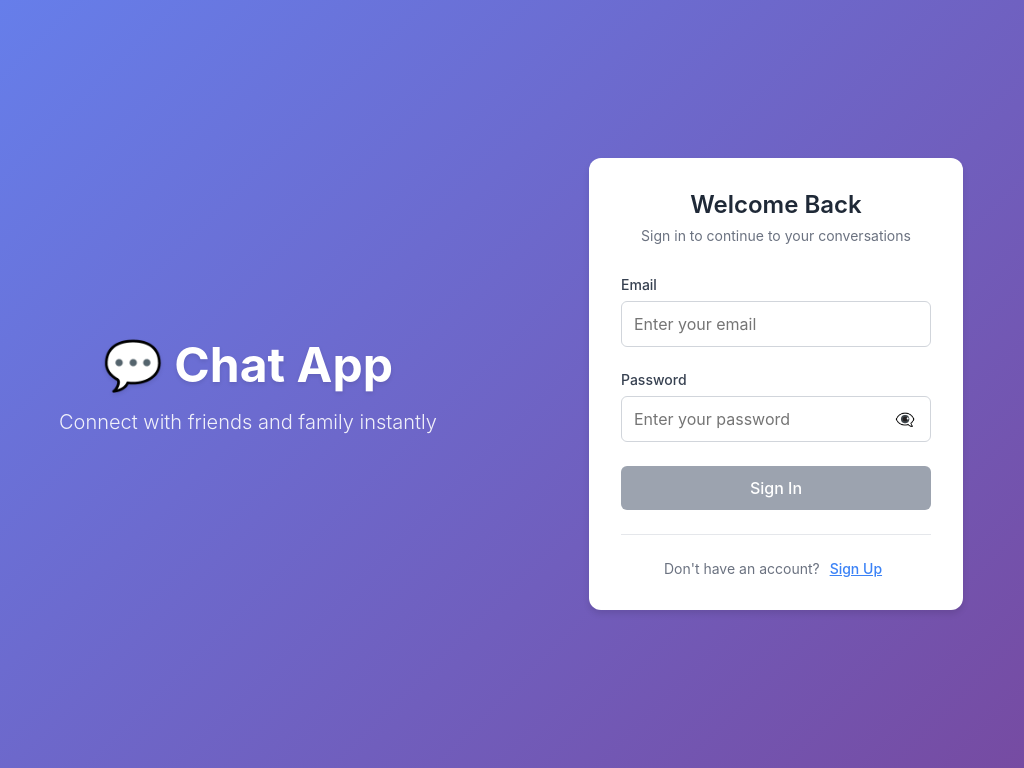
Scenario: AuthPage › switches back to login form when Sign In is clicked from register form
# Switch to register
Click the button "Sign Up".
click(856, 568)  # box x1=824 y1=559 x2=888 y2=578
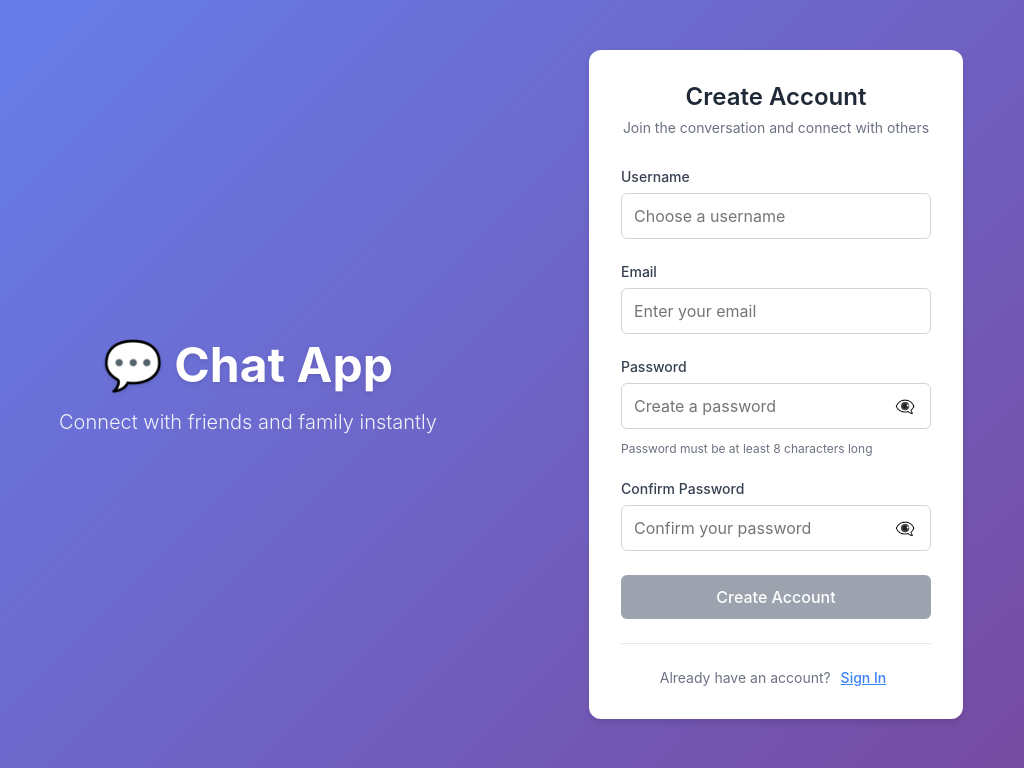
# Switch back to login
Click the button "Sign In".
click(863, 677)  # box x1=835 y1=668 x2=892 y2=686
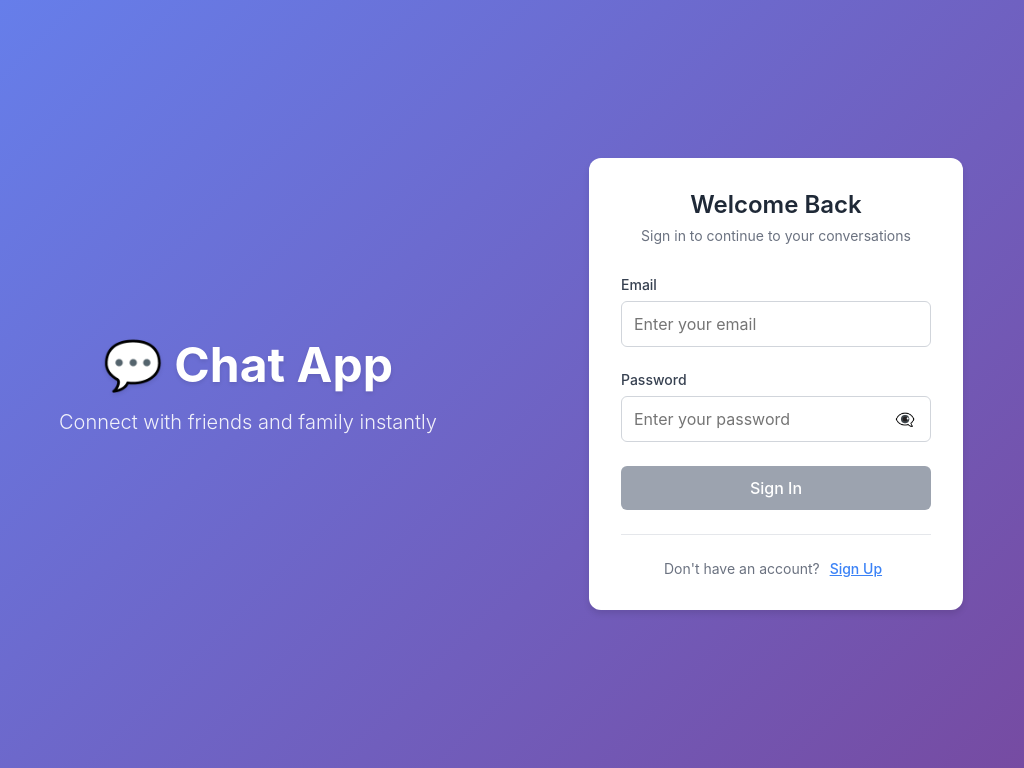
expect the field labelled "Email" is shown: met, box x1=621 y1=301 x2=931 y2=347
expect the heading "Welcome Back" is shown: met, box x1=690 y1=190 x2=862 y2=219
